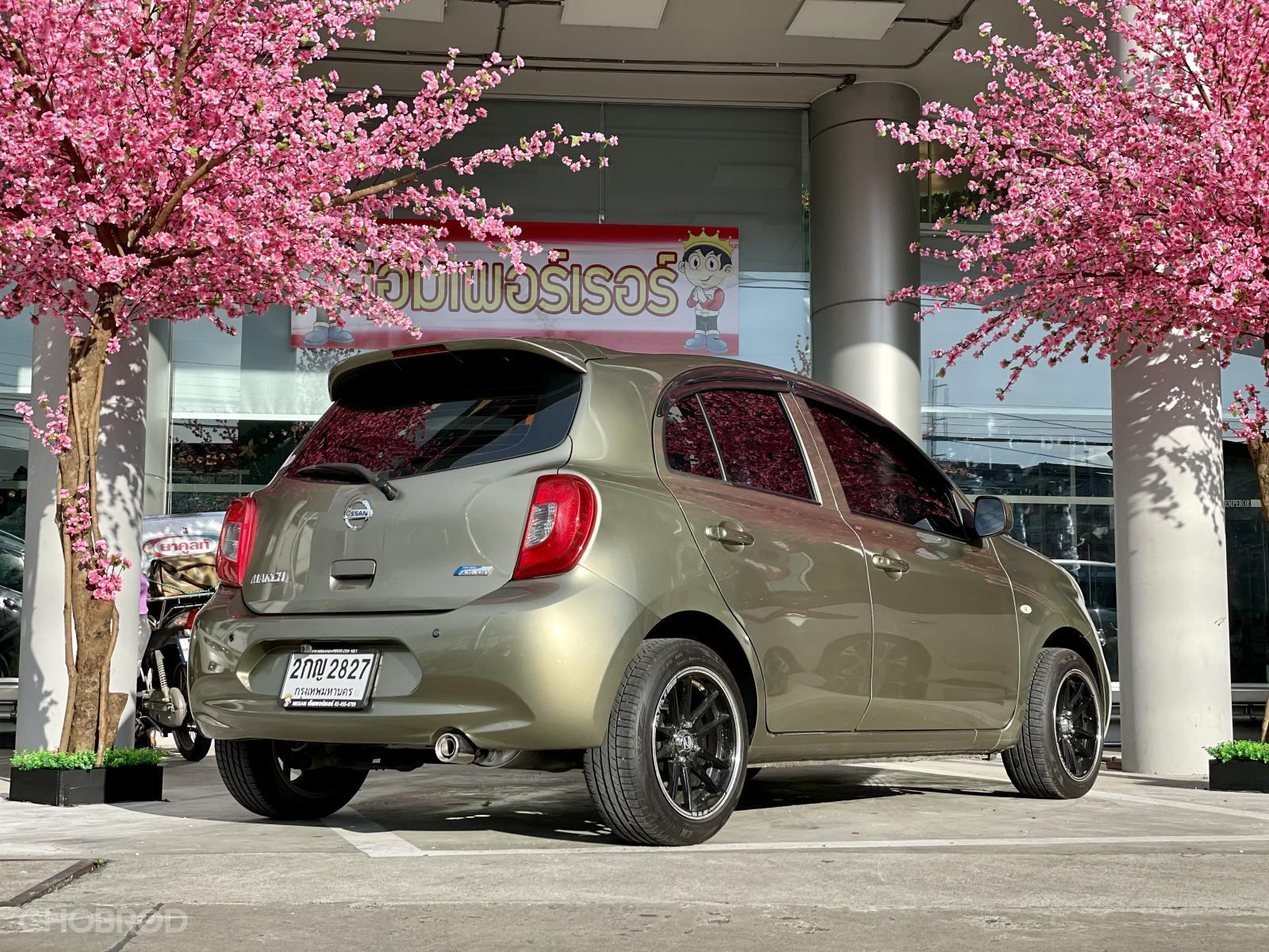license-plate: (271, 643, 389, 709)
